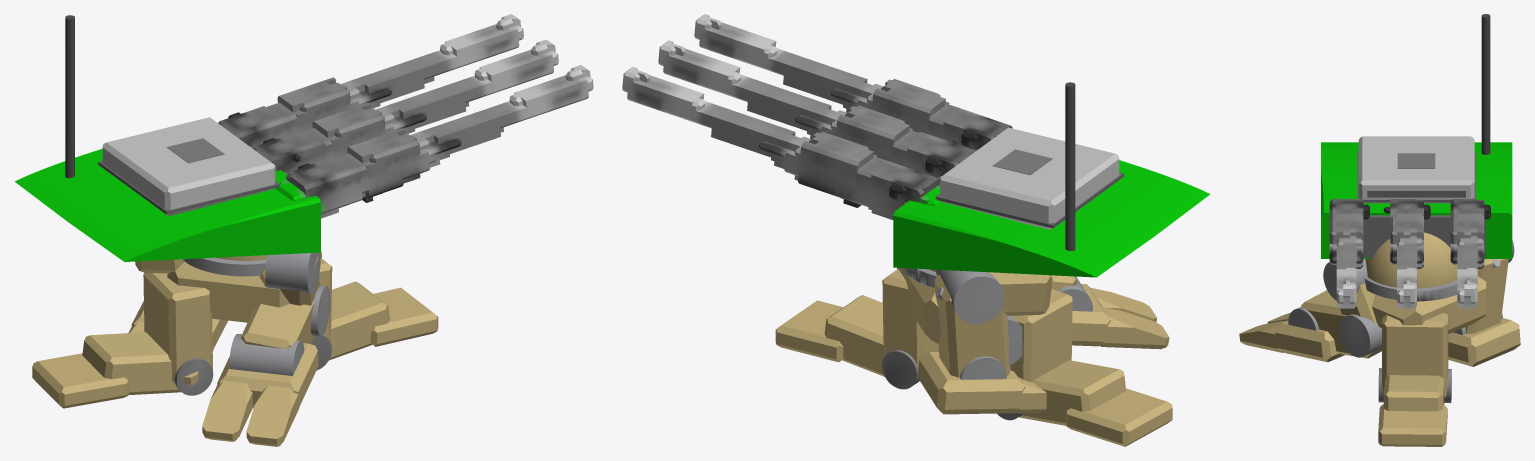
File: juggernaut-deployed.glb
3 views of the same model, side by side, from view 1: azimuth 30°, elevation 25°; view 2: azimuth 150°, elevation 25°; view 3: azimuth 270°, elevation 25° (orthographic). The views are drawn at different scales.
Visible parts, largest first — view 1: barrels, shell, hatch, limb_lo (×2), lfoot (×2), limb_up, toe (×2), pelvis, joint (×2), shin, foot, hipjoint (+6 smaller); view 2: barrels, shell, hatch, limb_lo (×2), limb_up (×2), lfoot (×2), foot (×2), joint (×3), toe (×3), shin, thigh, antenna (+5 smaller); view 3: barrels, shell, hatch, foot (×2), limb_up, shin (×2), pelvis, hipdome, lfoot, limb_lo, joint (×2), front (+9 smaller).
Part boxes in pixels (box(x1,y1,x2,y2)): barrels: box(218, 14, 593, 218); shell: box(14, 148, 320, 261); hatch: box(102, 117, 275, 216); limb_lo (×2): box(82, 281, 389, 395); lfoot (×2): box(32, 287, 438, 408); limb_up: box(143, 272, 212, 382); toe (×2): box(202, 380, 299, 446); pelvis: box(167, 251, 321, 322); joint (×2): box(229, 285, 330, 375); shin: box(241, 300, 314, 348); foot: box(217, 343, 318, 408); hipjoint: box(265, 252, 320, 293); barrels: box(622, 14, 1012, 219); shell: box(893, 160, 1210, 277); hatch: box(940, 127, 1119, 229); limb_lo (×2): box(824, 295, 1125, 425); limb_up (×2): box(882, 269, 1072, 382); lfoot (×2): box(775, 300, 1172, 446); foot (×2): box(917, 284, 1110, 414); joint (×3): box(936, 269, 1092, 379); toe (×3): box(1014, 287, 1169, 413); shin: box(934, 274, 1010, 377); thigh: box(988, 272, 1052, 315); antenna: box(1065, 82, 1075, 250); barrels: box(1329, 199, 1490, 308); shell: box(1321, 142, 1512, 258); hatch: box(1358, 136, 1474, 203); foot (×2): box(1275, 318, 1520, 366); limb_up: box(1382, 313, 1448, 396); shin (×2): box(1301, 259, 1508, 358); pelvis: box(1372, 276, 1486, 333); hipdome: box(1365, 232, 1457, 288); lfoot: box(1378, 404, 1447, 446); limb_lo: box(1383, 375, 1444, 411); joint (×2): box(1288, 307, 1381, 357); front: box(1363, 215, 1485, 257).
Bounding box in the file's own units: 1.72 × 1.18 × 0.9761.
